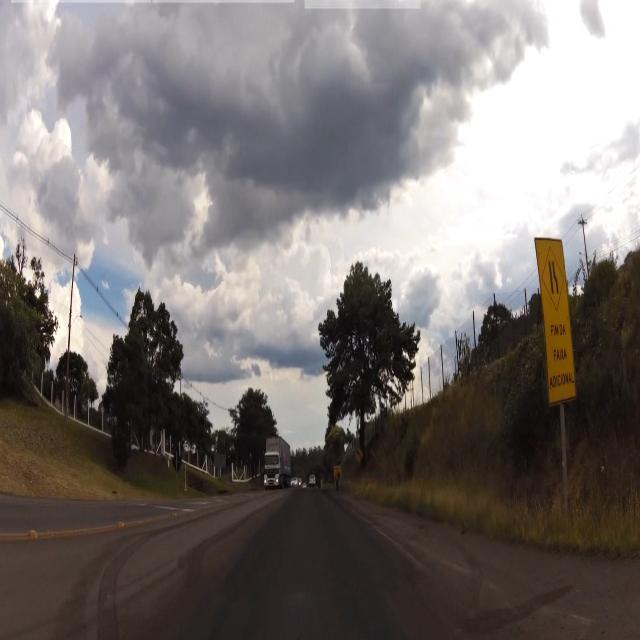A-21c: (539, 247, 568, 310)
